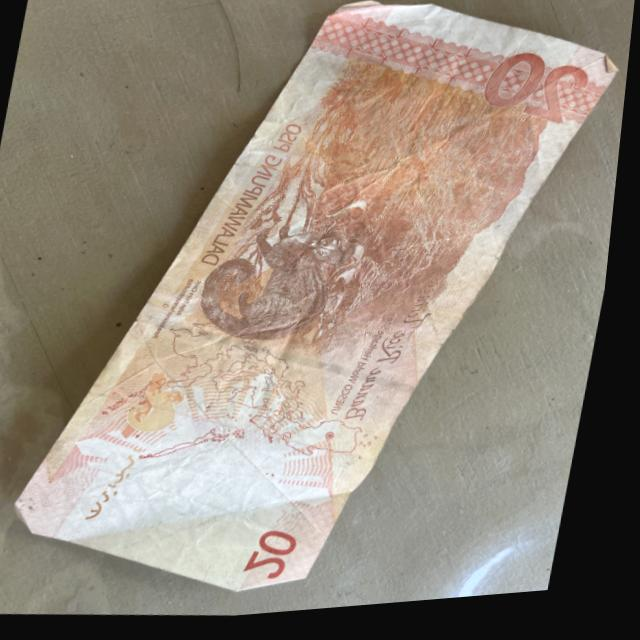20_civet: (196, 221, 367, 362)
20_civet_watermark: (127, 379, 202, 446)
